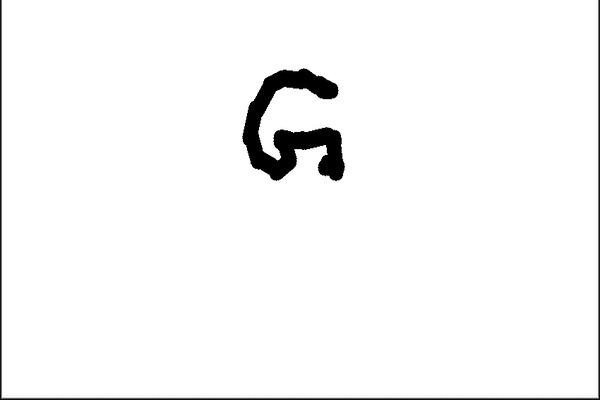G: (239, 63, 351, 183)
